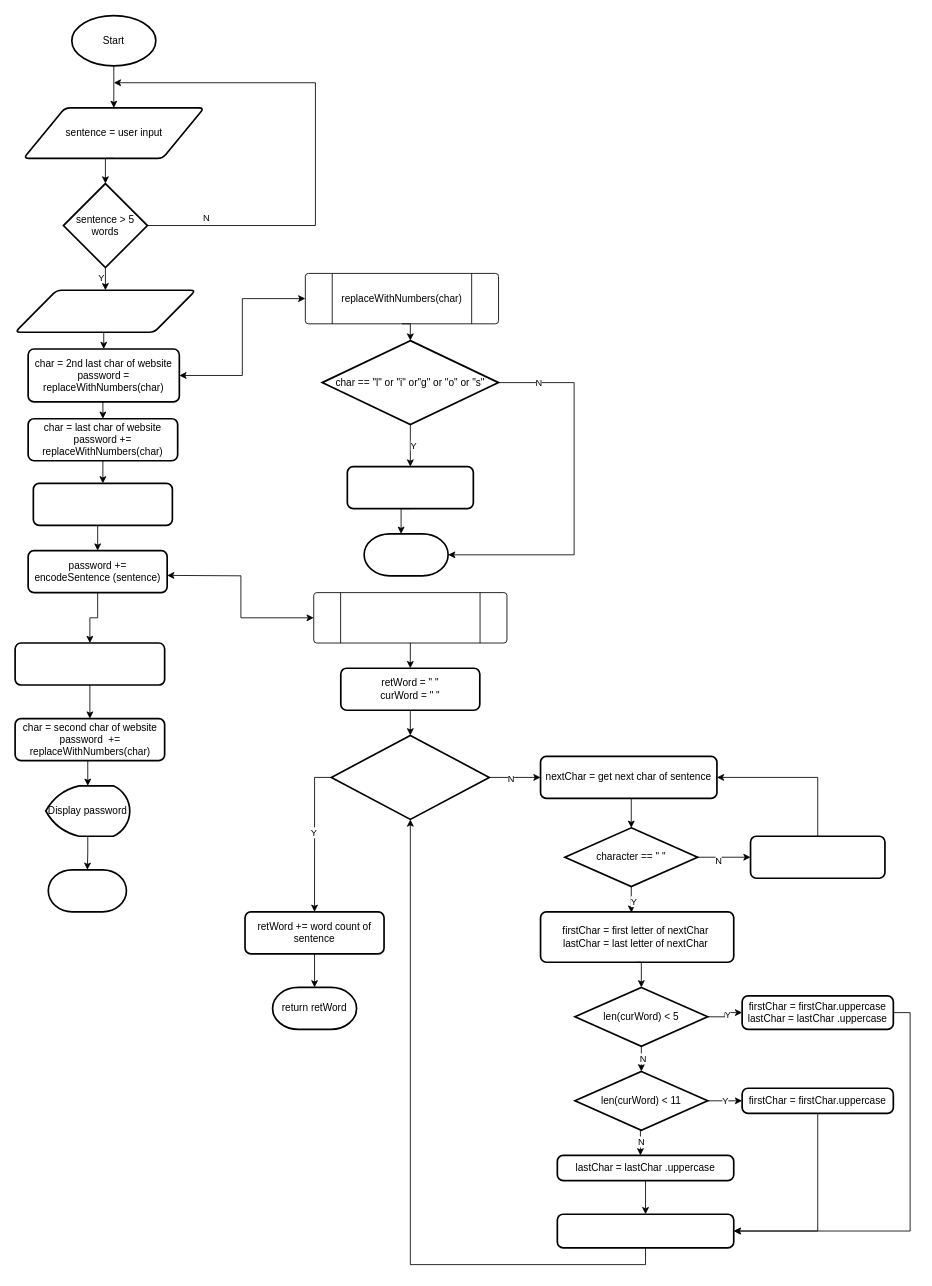
Image size: 932x1286. Some labels were removed from this diagram. Each missing label, with the box of its shape:
char = first char of website password += replaceWithNumbers(char): (14, 642, 165, 685)
curWord += nextChar: (749, 835, 885, 879)
encodeSentence(sentence): (313, 592, 507, 643)
End: (47, 869, 127, 912)
end of sentence: (330, 734, 490, 820)
password += lenght (website): (32, 482, 173, 526)
Replace char "l" = "1", "i" = "!"; "g" = "9"; "o" = "0"; "s" = "5": (346, 465, 474, 509)
return char: (363, 533, 449, 576)
retWord += firstChar + lastChar: (556, 1213, 734, 1248)
website = user input: (14, 289, 196, 333)
